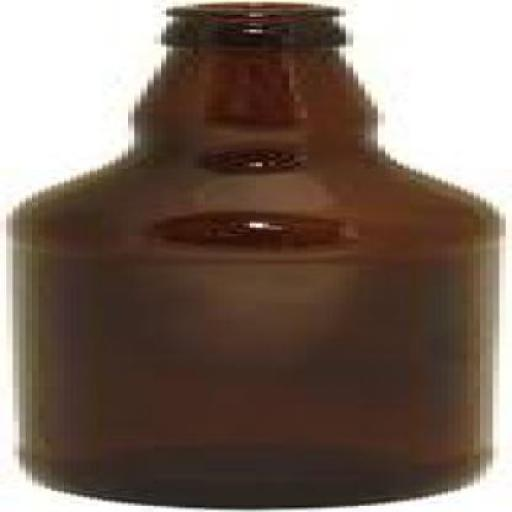glass: (7, 2, 493, 508)
